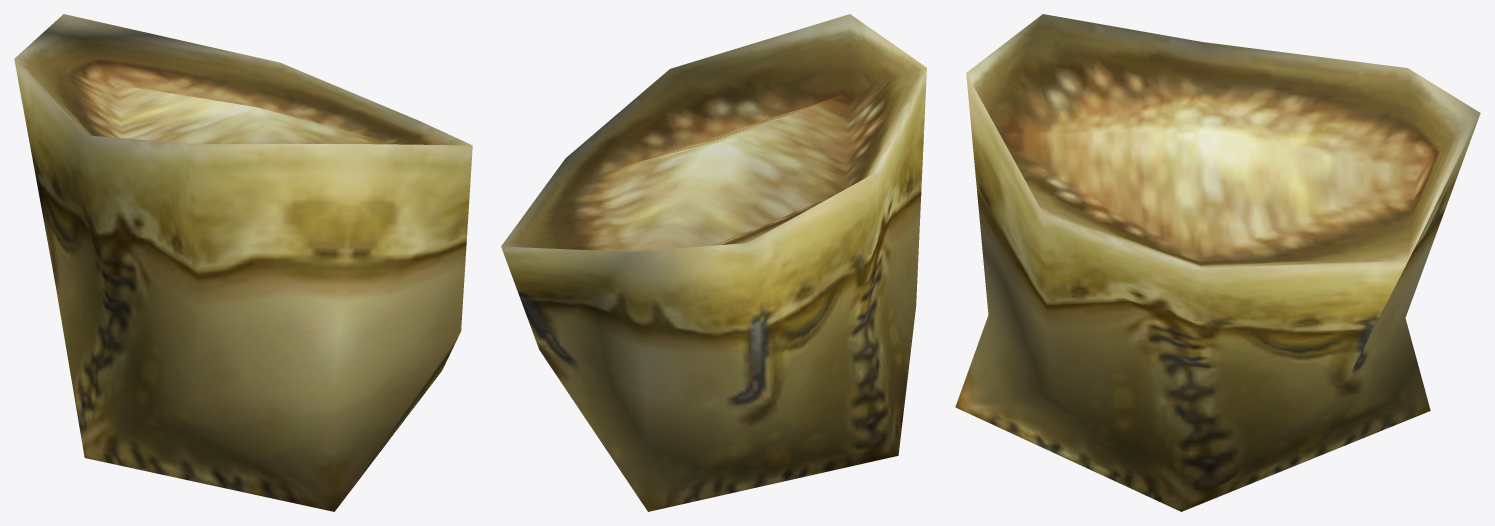
Rendered from sack02.glb.
3 renders of one model, left to right at view 1: azimuth 30°, elevation 25°; view 2: azimuth 150°, elevation 25°; view 3: azimuth 270°, elevation 25°, orthographic. The views are drawn at different scales.
Bounding box in the file's own units: 0.561 × 0.5364 × 0.7322.
1 material, 1 textured.
